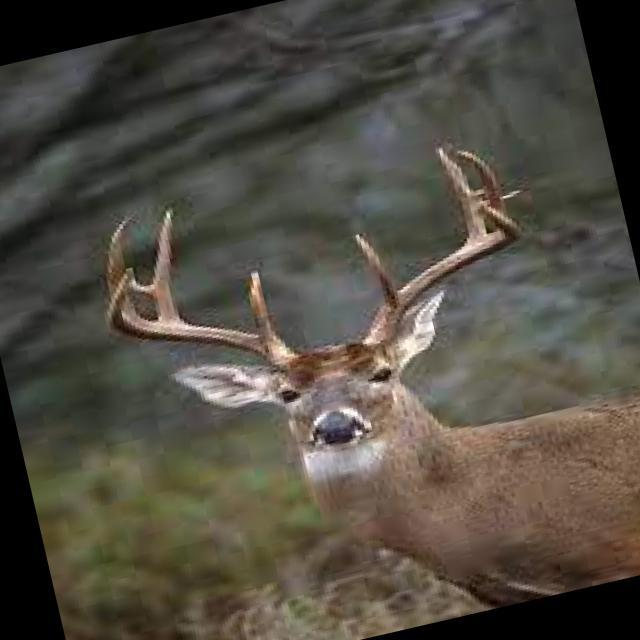L-F: (364, 201, 519, 341)
L-G1: (353, 233, 400, 310)
L-G2: (434, 146, 489, 247)
R-F: (107, 273, 297, 368)
R-G1: (247, 269, 283, 343)
R-G2: (153, 209, 182, 322)
